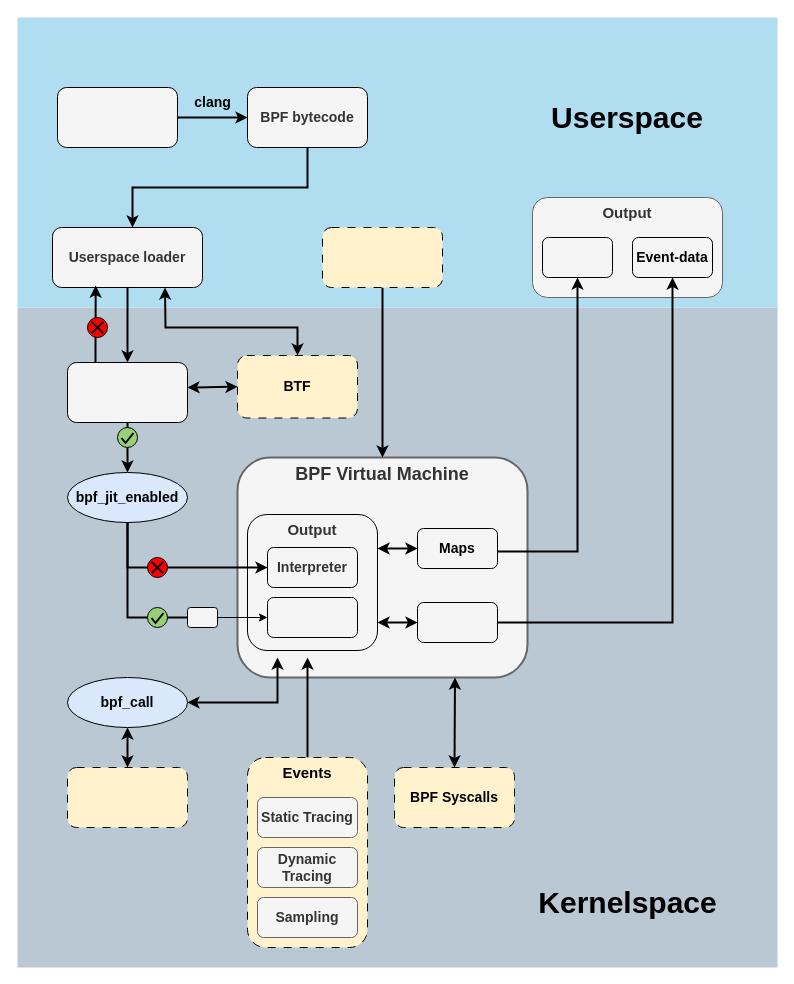
The diagram is 794 pixels wide and 984 high, and some of its shapes have lost their labels. The centre of each missing label's shape, as x and y in pixels:
"BPF Buffer" belongs at pixel 457 622.
"BPF Helpers" belongs at pixel 127 797.
"BPF program" belongs at pixel 117 117.
"Event config" belongs at pixel 382 257.
"JIT" belongs at pixel 202 617.
"Native code" belongs at pixel 312 617.
"Statistics" belongs at pixel 577 257.
"Verifier" belongs at pixel 127 392.
